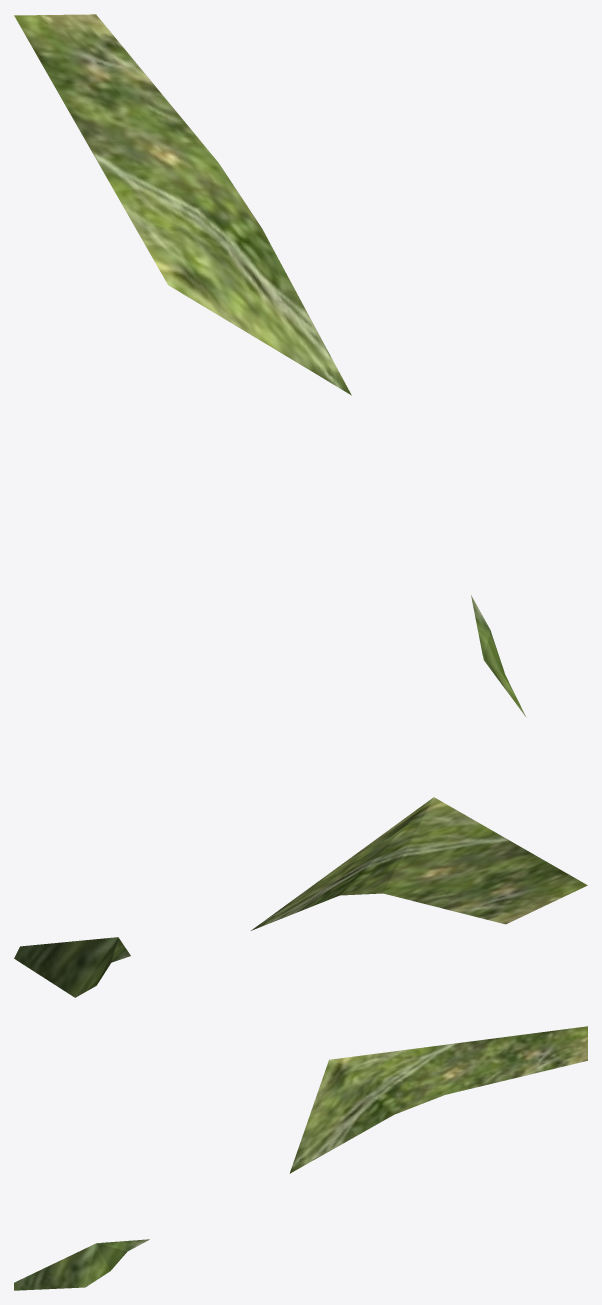
3 views of the same model, one above another, from view 1: azimuth 30°, elevation 25°; view 2: azimuth 210°, elevation 25°; view 3: azimuth 270°, elevation 25° (orthographic). The views are drawn at different scales.
Bounding box in the file's own units: 1.04 × 2.73 × 5.9.
Materials: 1 (1 with a texture image).
